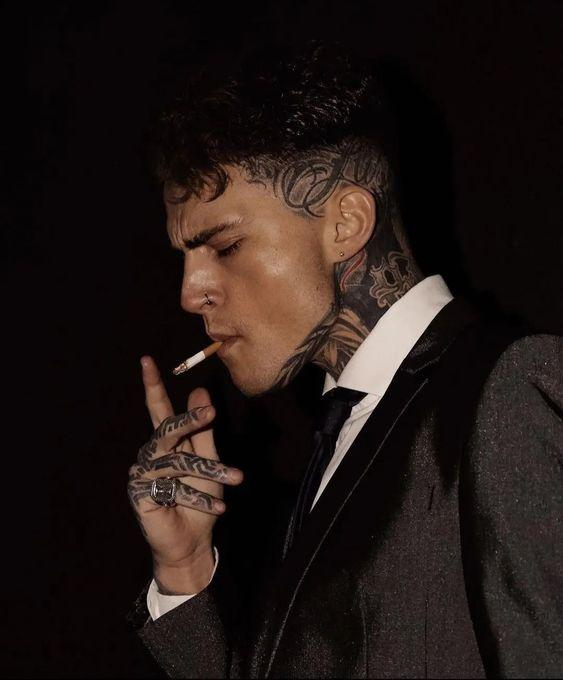cigarette: (173, 341, 224, 376)
